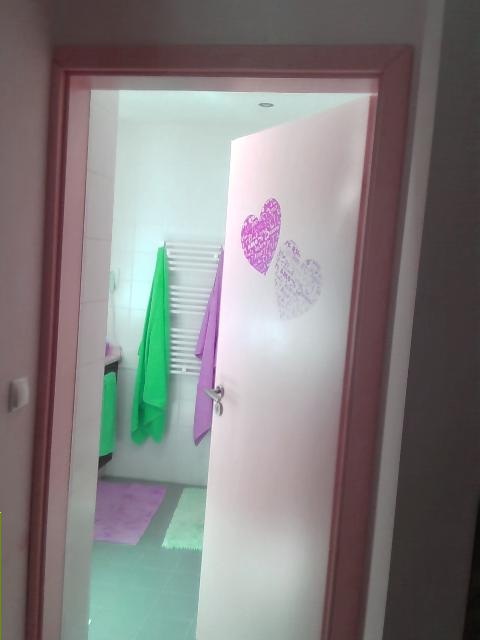semi_door: (25, 41, 413, 639)
